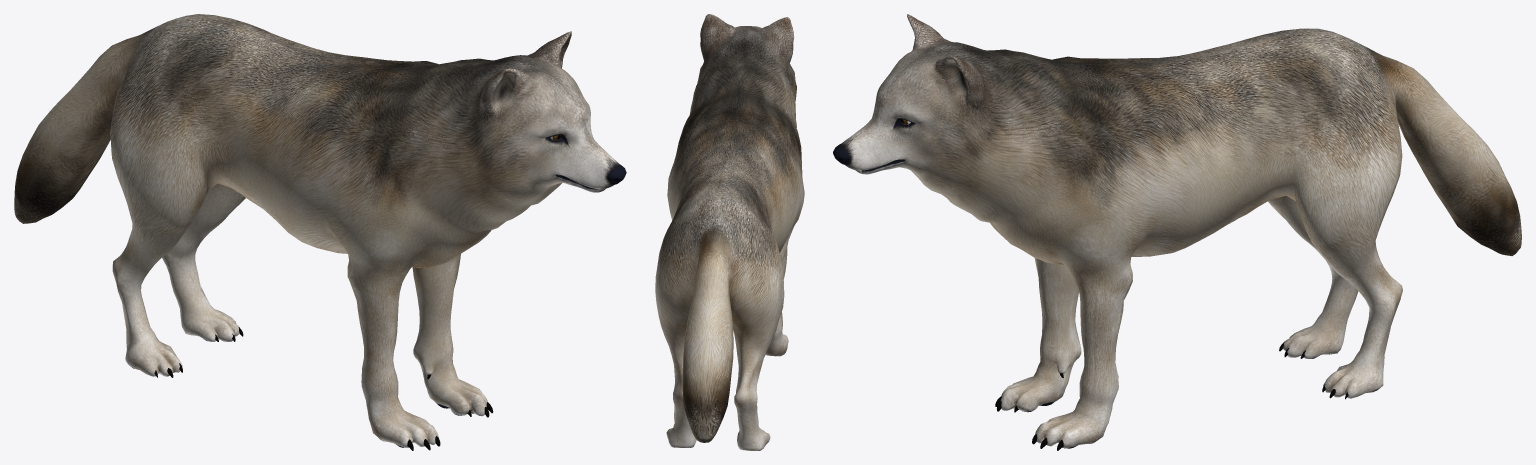
File: source.glb
The picture shows the model from 3 angles, left to right: view 1: azimuth 30°, elevation 25°; view 2: azimuth 150°, elevation 25°; view 3: azimuth 270°, elevation 25°; orthographic projection. The views are drawn at different scales.
Parts seen in each view (by area): view 1: node_id31_0; view 2: node_id31_0; view 3: node_id31_0.
Boxes of the visible parts, x1,y1,x2,y2 form: node_id31_0: [14, 14, 626, 450]; node_id31_0: [655, 14, 804, 450]; node_id31_0: [833, 14, 1521, 450].
Size of the model in its own units: 0.0801 by 0.1061 by 0.1604.
1 material, 1 textured.
